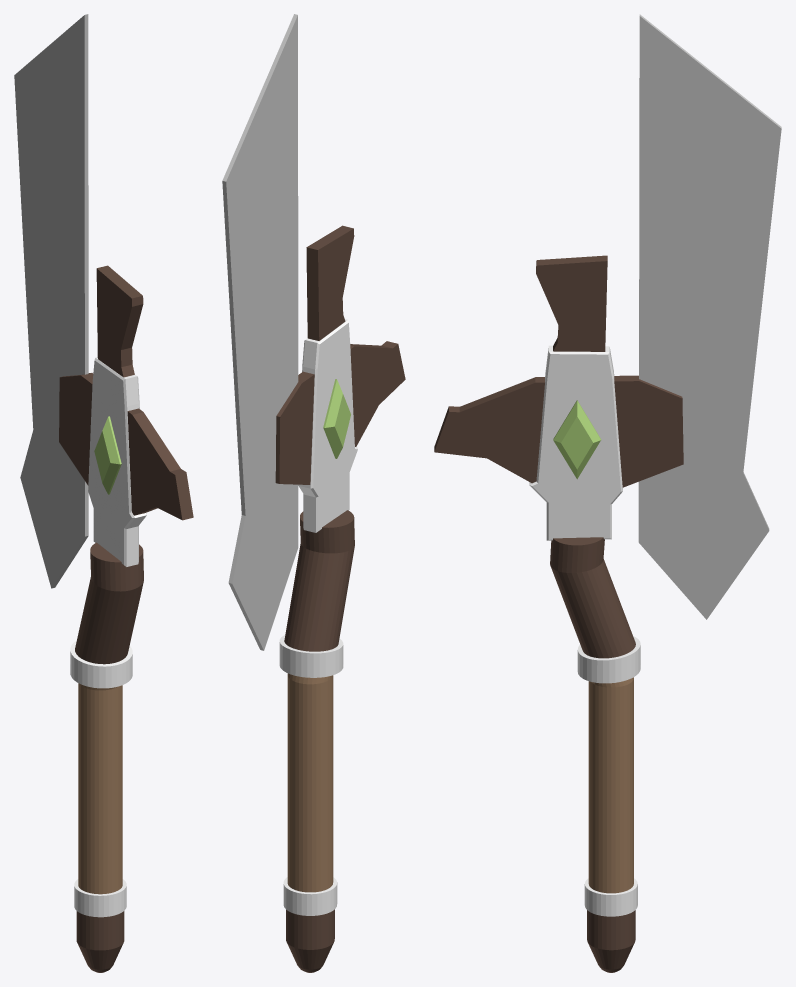
The model's file is SilverDagger.fbx.
The picture shows the model from 3 angles, left to right: view 1: azimuth 30°, elevation 25°; view 2: azimuth 150°, elevation 25°; view 3: azimuth 270°, elevation 25°; orthographic projection. The views are drawn at different scales.
Parts seen in each view (by area): view 1: Axe1; view 2: Axe1; view 3: Axe1.
Part boxes in pixels (x1,y1,x2,y2): Axe1: (14, 14, 193, 972); Axe1: (222, 14, 405, 972); Axe1: (434, 14, 781, 972).
Size of the model in its own units: 28.88 by 482 by 159.
